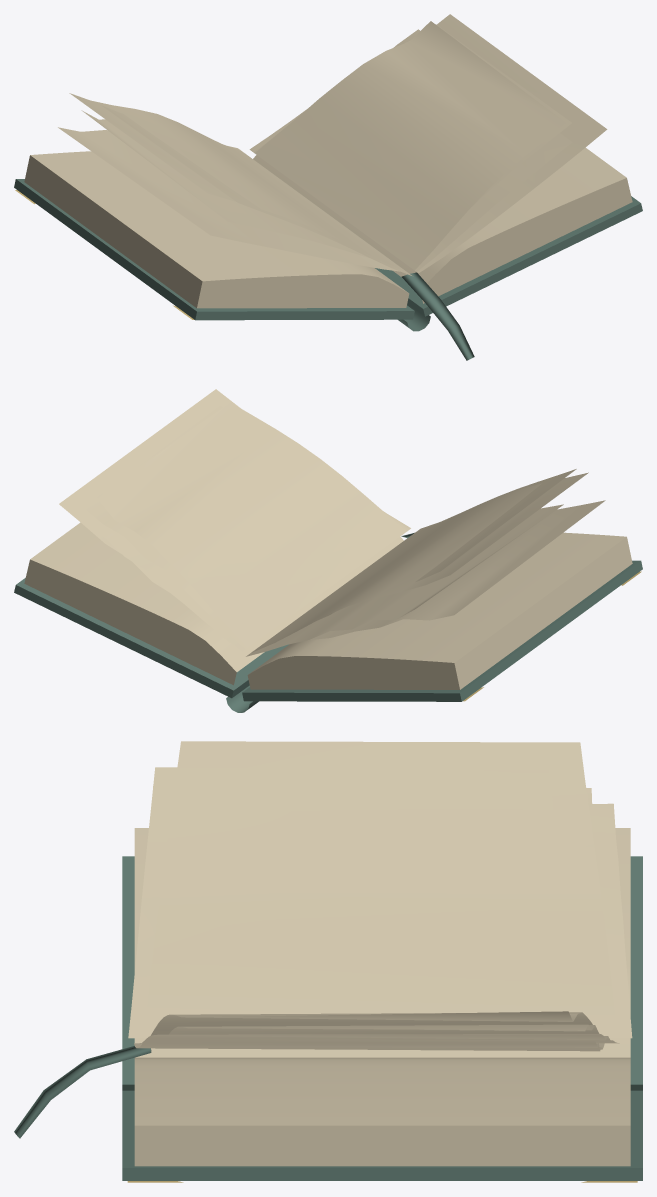
File: FloatingBookLarge.fbx
The picture shows the model from 3 angles, top to bottom: view 1: azimuth 30°, elevation 25°; view 2: azimuth 150°, elevation 25°; view 3: azimuth 270°, elevation 25°; orthographic projection. The views are drawn at different scales.
Visible parts, largest first — view 1: FloatingBookLarge; view 2: FloatingBookLarge; view 3: FloatingBookLarge.
Boxes of the visible parts, bbox=[...] form: FloatingBookLarge: bbox=[14, 14, 642, 360]; FloatingBookLarge: bbox=[14, 389, 642, 712]; FloatingBookLarge: bbox=[14, 741, 642, 1182].
Bounding box in the file's own units: 0.5528 × 0.2044 × 0.4655.
